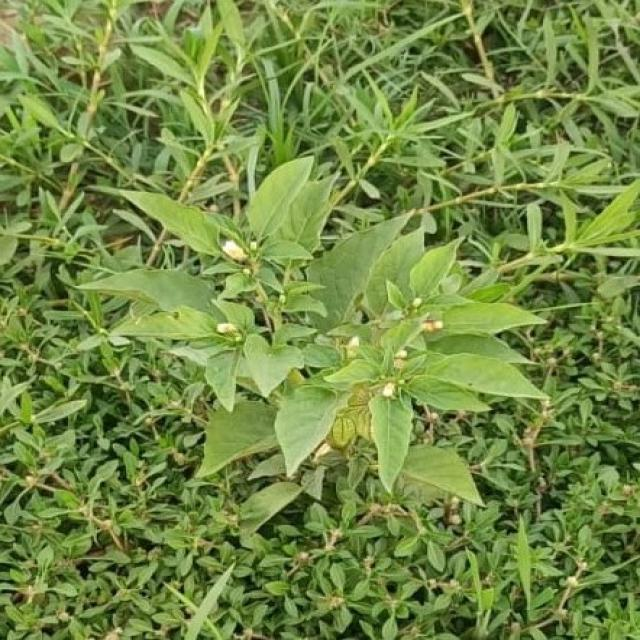weed: (80, 157, 546, 531)
